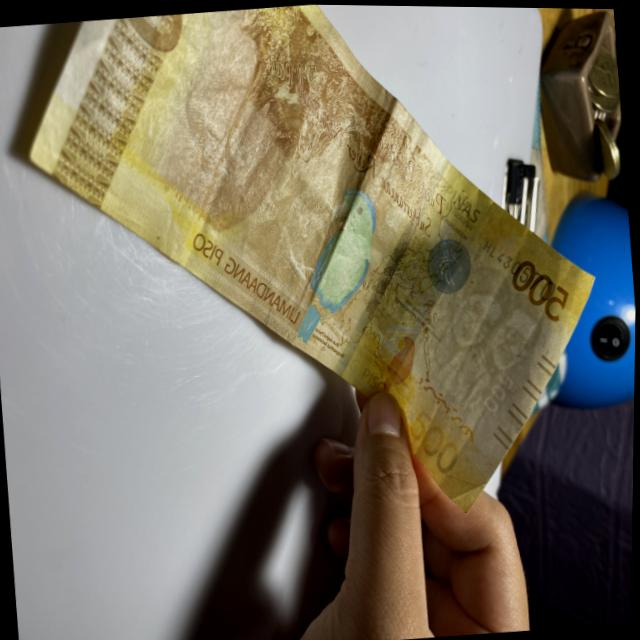500_big_parrot: (283, 184, 391, 346)
500_parrot_watermark: (378, 332, 420, 389)
value_watermark: (480, 366, 517, 416)
watermark: (425, 272, 545, 406)
